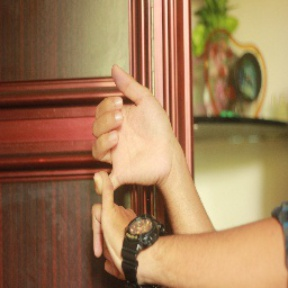S: (82, 59, 176, 283)
